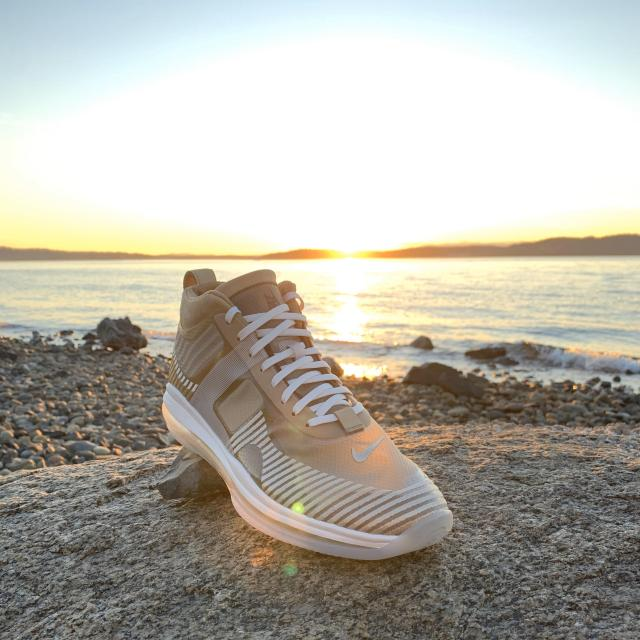shoe: (157, 259, 459, 565)
